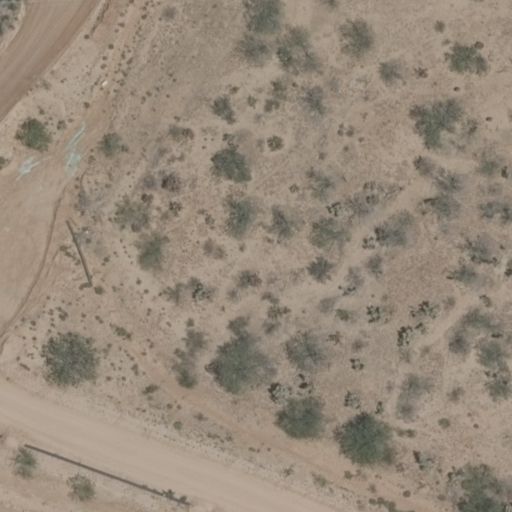DT: (63, 219, 96, 285)
